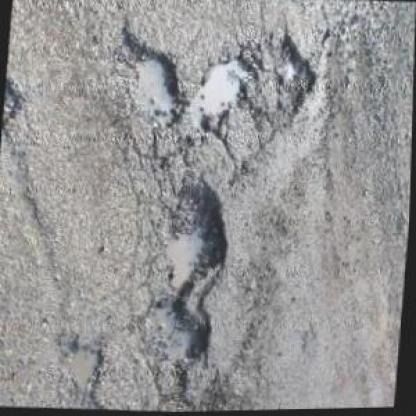pothole: (152, 179, 236, 301), (110, 32, 190, 134), (190, 51, 259, 146), (136, 295, 218, 373), (266, 32, 322, 118), (57, 334, 111, 394), (3, 73, 26, 129)
